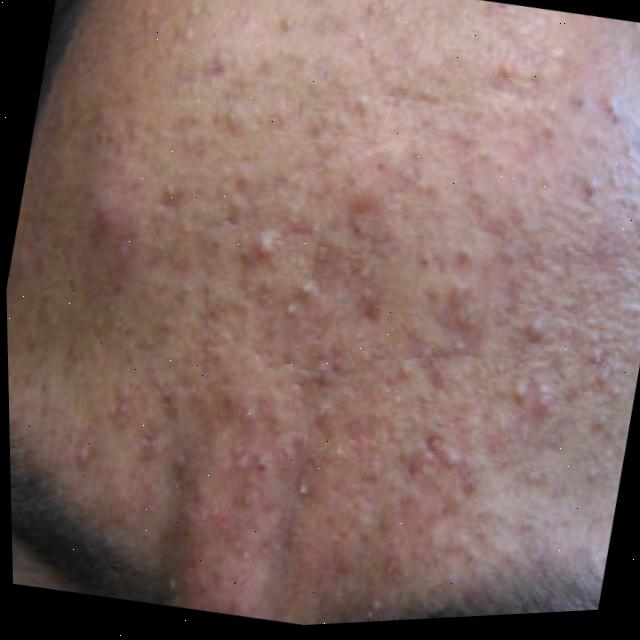Acne: (50, 0, 640, 635)
